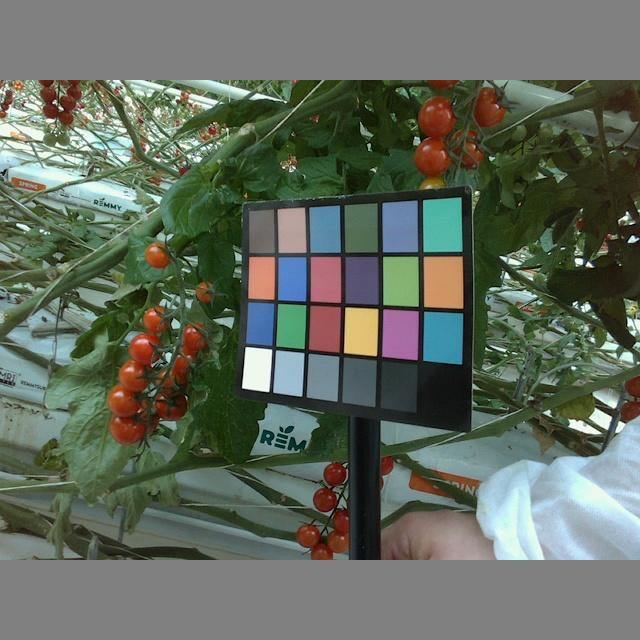pink: (143, 241, 173, 267), (194, 278, 217, 305), (325, 529, 349, 554), (416, 178, 445, 192)
red: (416, 96, 456, 139), (469, 88, 507, 130), (450, 131, 487, 172), (108, 411, 149, 447), (414, 137, 451, 175), (117, 357, 155, 393), (156, 389, 191, 423), (128, 331, 163, 364), (107, 384, 143, 416), (176, 322, 209, 350), (141, 306, 170, 334), (311, 485, 339, 512), (321, 461, 348, 488), (297, 520, 320, 549), (313, 546, 333, 559)
